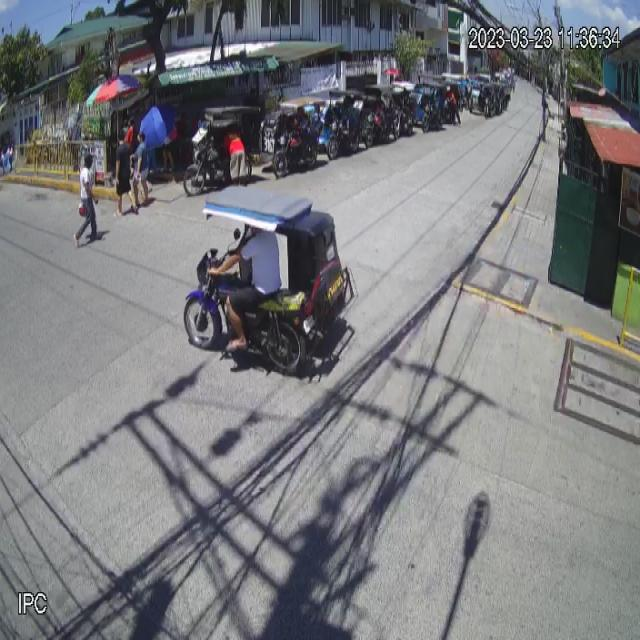Tricycle: (182, 187, 354, 371)
